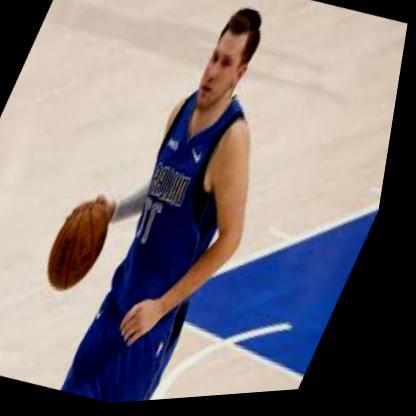basketball: (39, 196, 128, 301)
